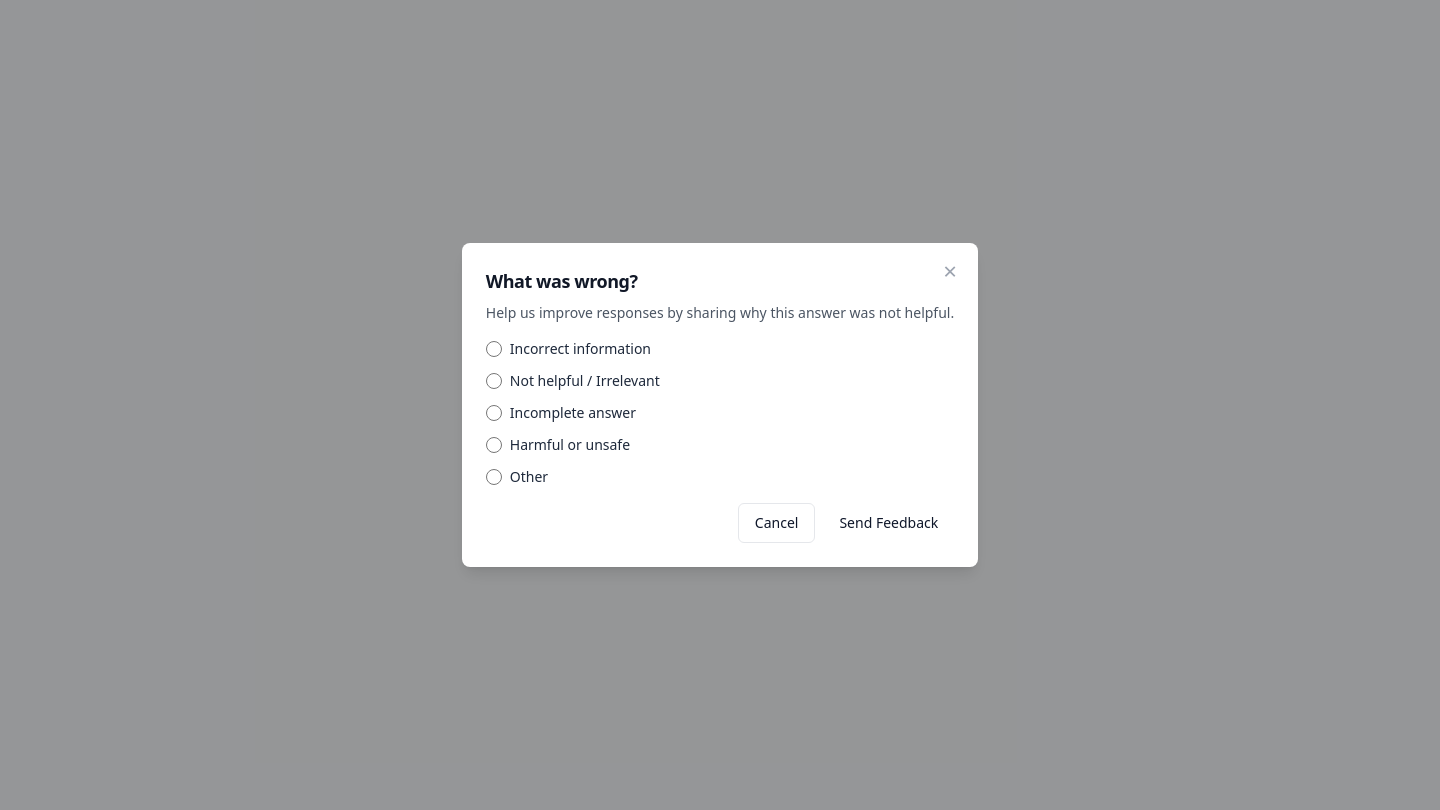
Test case: FeedbackReasonModal › shows error if Other selected with less than 10 characters
Click the radio button labelled "Other": (494, 477) [486, 469, 502, 485]
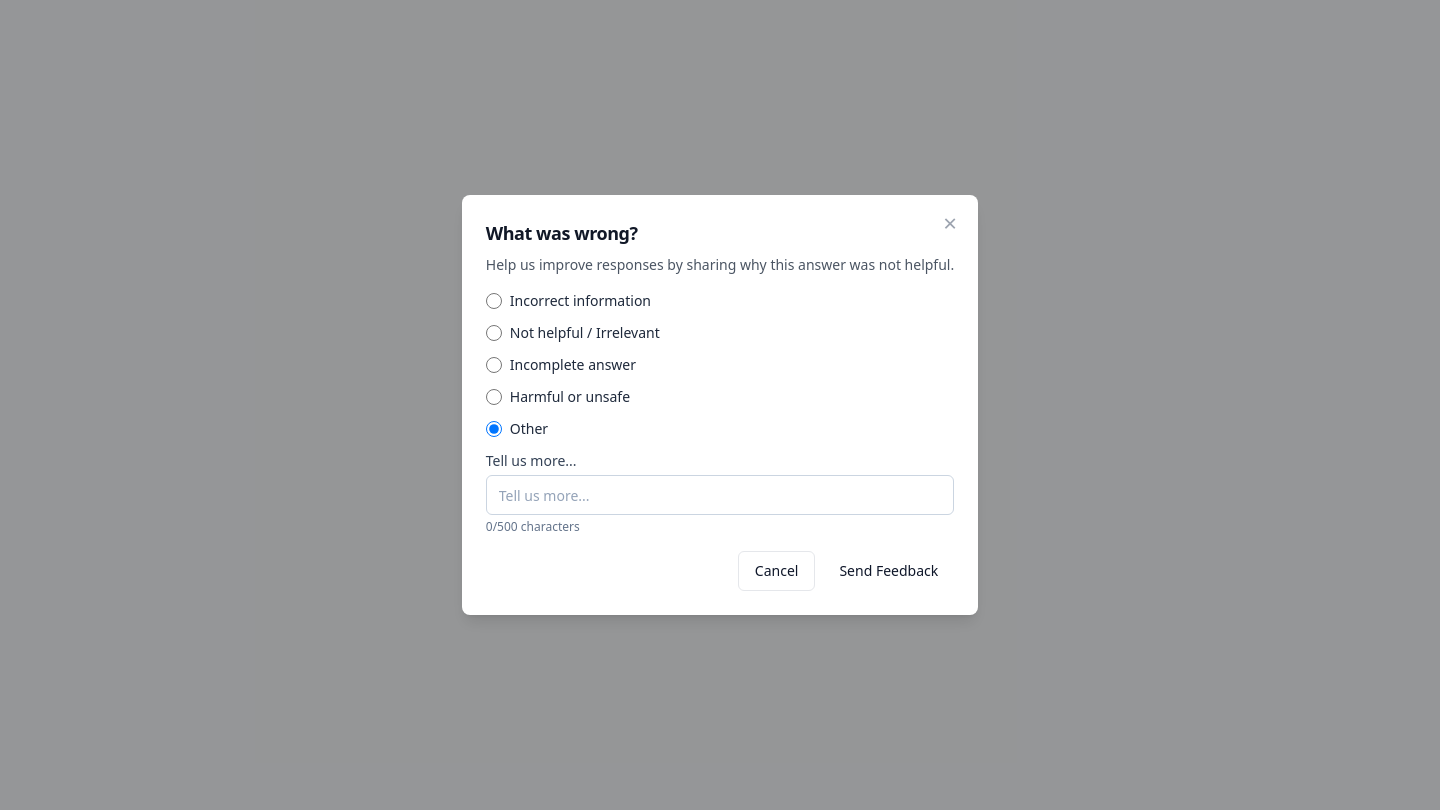
In the field with placeholder "Tell us more...": (720, 495) [486, 475, 954, 515], type "Short"
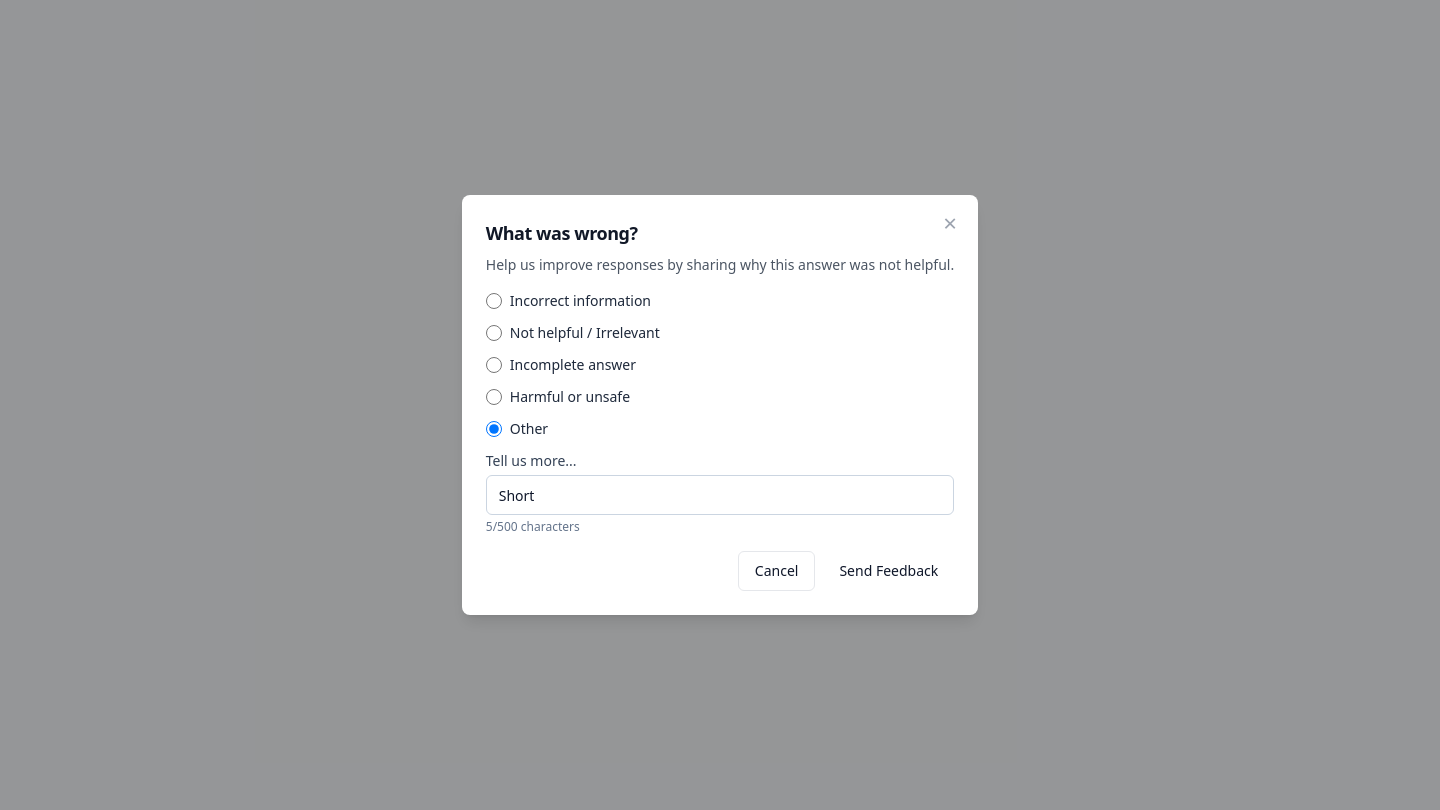
Click the button "Send Feedback": (889, 571) [823, 551, 954, 591]
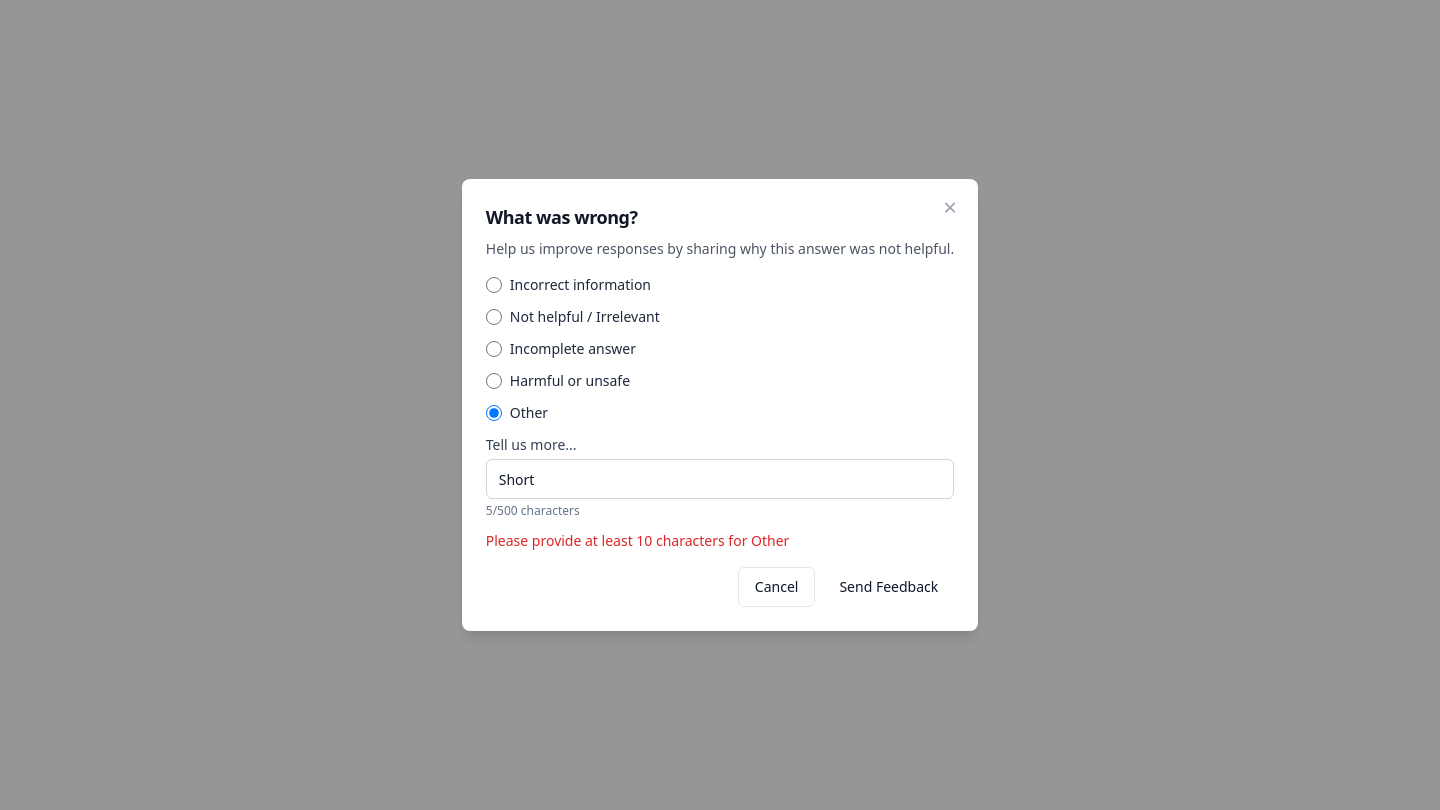
Check: the text "Please provide at least 10 characters for Other" is shown, box [486, 531, 789, 550]
